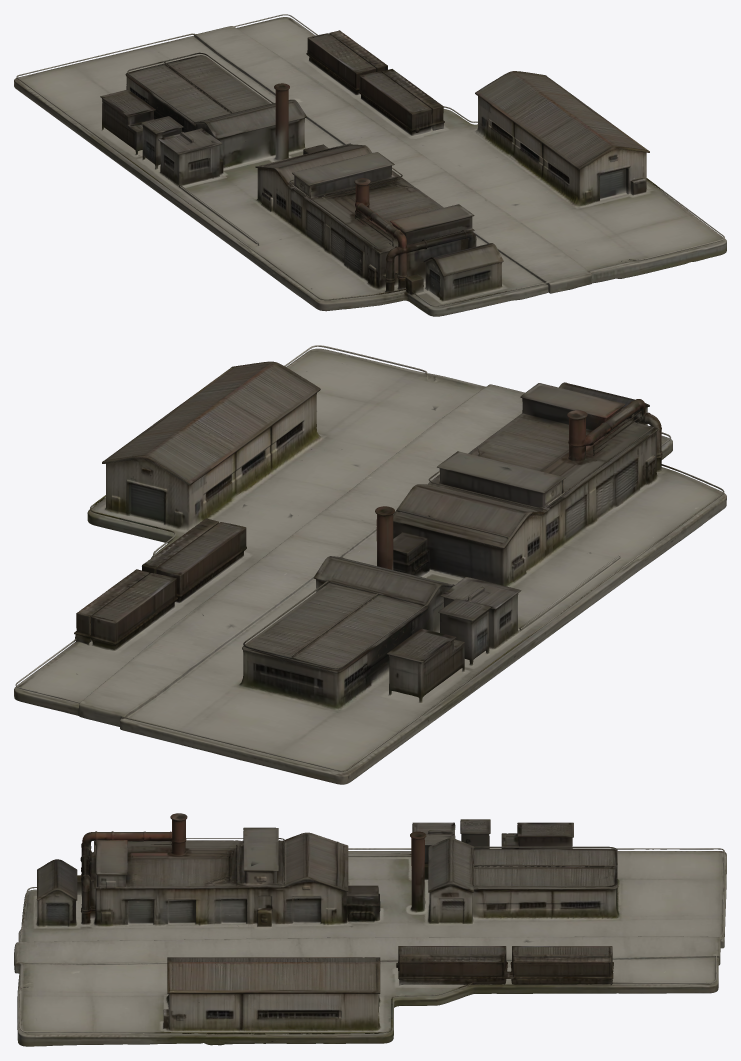
Rendered from factory-visual.glb.
3 views of the same model, one above another, from view 1: azimuth 30°, elevation 25°; view 2: azimuth 150°, elevation 25°; view 3: azimuth 270°, elevation 25° (orthographic). The views are drawn at different scales.
Visible parts, largest first — view 1: node_0; view 2: node_0; view 3: node_0.
Part boxes in pixels (bbox=[...]): node_0: bbox=[14, 14, 726, 316]; node_0: bbox=[14, 345, 726, 784]; node_0: bbox=[14, 813, 726, 1046].
Size of the model in its own units: 0.6316 by 0.1367 by 1.02.
1 material, 1 textured.
